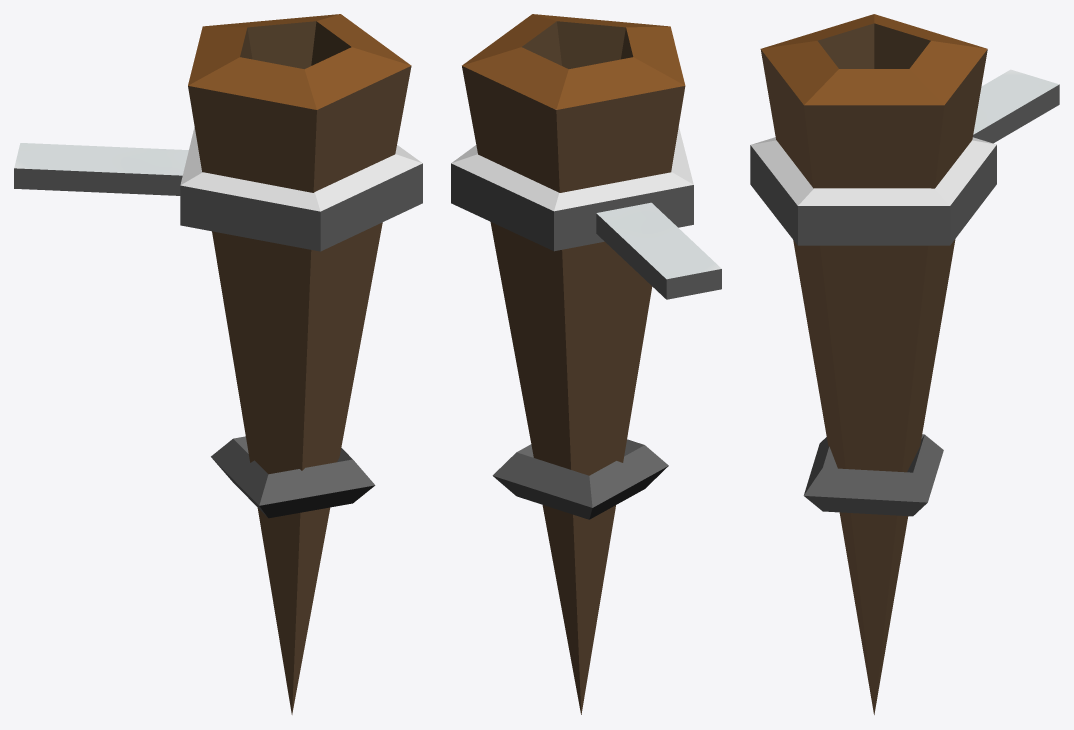
The model's file is TorchBracket.fbx.
The picture shows the model from 3 angles, left to right: view 1: azimuth 30°, elevation 25°; view 2: azimuth 150°, elevation 25°; view 3: azimuth 270°, elevation 25°; orthographic projection.
Visible parts, largest first — view 1: pCone3; view 2: pCone3; view 3: pCone3.
Part boxes in pixels (x1=…): pCone3: x1=14, y1=14, x2=422, y2=714; pCone3: x1=451, y1=14, x2=721, y2=714; pCone3: x1=750, y1=14, x2=1059, y2=714.
Size of the model in its own units: 18.9 by 40.21 by 16.88.
Materials: 1 (1 with a texture image).
